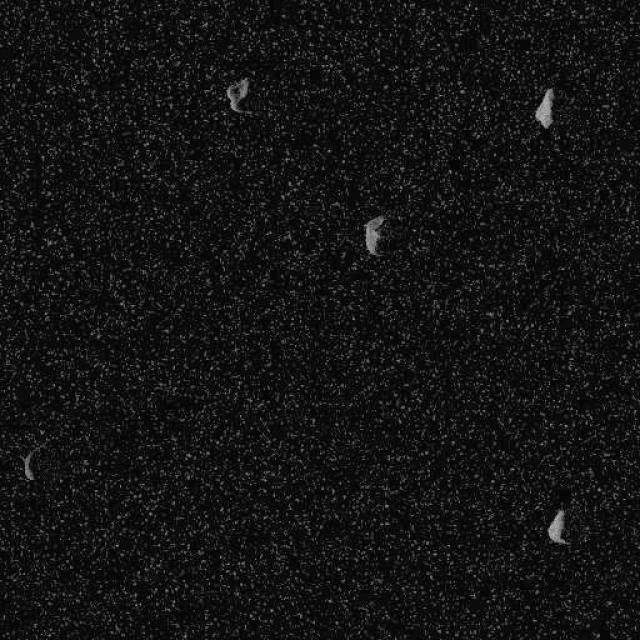D2: (225, 75, 251, 115), (533, 86, 555, 129), (364, 214, 385, 256), (546, 507, 569, 545), (22, 450, 36, 482)
